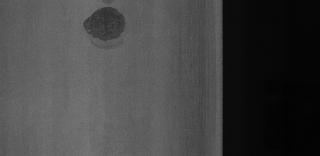oil spot: (82, 4, 130, 46)
